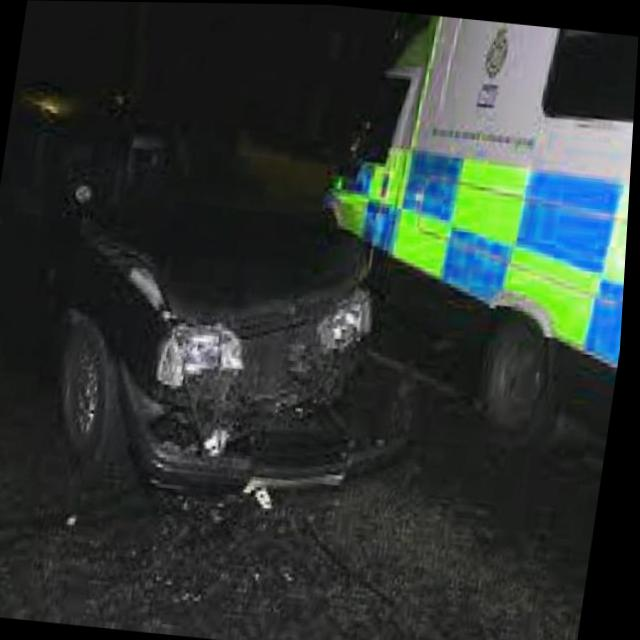Car-Damage: (90, 228, 441, 513)
